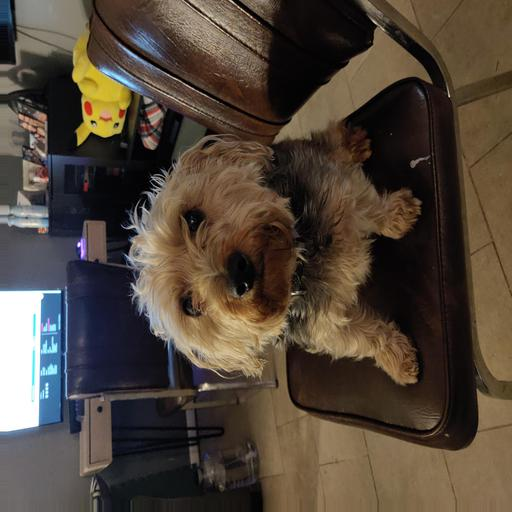dog: (105, 130, 345, 370)
